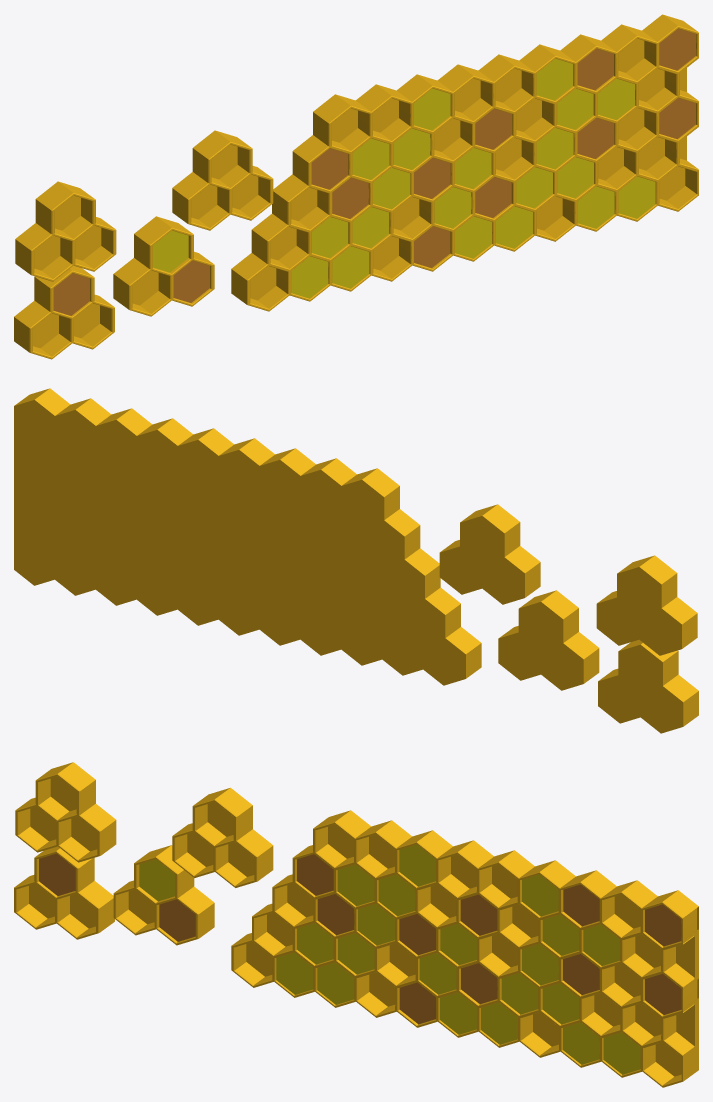
Rendered from Honey.fbx.
The picture shows the model from 3 angles, top to bottom: view 1: azimuth 30°, elevation 25°; view 2: azimuth 150°, elevation 25°; view 3: azimuth 330°, elevation 25°; orthographic projection.
Parts seen in each view (by area): view 1: Cube.068, Cube.078, Cube.069, Cube.081, Cube.070; view 2: Cube.068, Cube.078, Cube.069, Cube.081, Cube.070; view 3: Cube.068, Cube.069, Cube.078, Cube.081, Cube.070.
Part boxes in pixels (box(x1,y1,x2,y2)): Cube.068: box(231, 14, 698, 311); Cube.078: box(172, 130, 273, 230); Cube.069: box(15, 181, 116, 281); Cube.081: box(113, 216, 214, 316); Cube.070: box(14, 265, 114, 359); Cube.068: box(14, 388, 481, 685); Cube.078: box(439, 504, 540, 604); Cube.069: box(596, 555, 697, 655); Cube.081: box(498, 590, 599, 690); Cube.070: box(598, 639, 698, 733); Cube.068: box(231, 810, 698, 1087); Cube.069: box(15, 762, 116, 862); Cube.078: box(172, 787, 273, 887); Cube.081: box(113, 845, 214, 945); Cube.070: box(14, 846, 114, 939).
Bounding box in the file's own units: 4024 × 1070 × 167.
